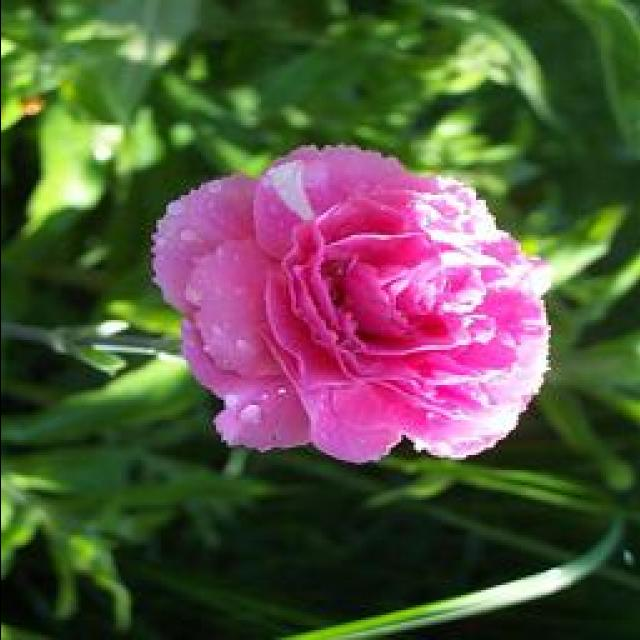carnation: (148, 135, 554, 472)
